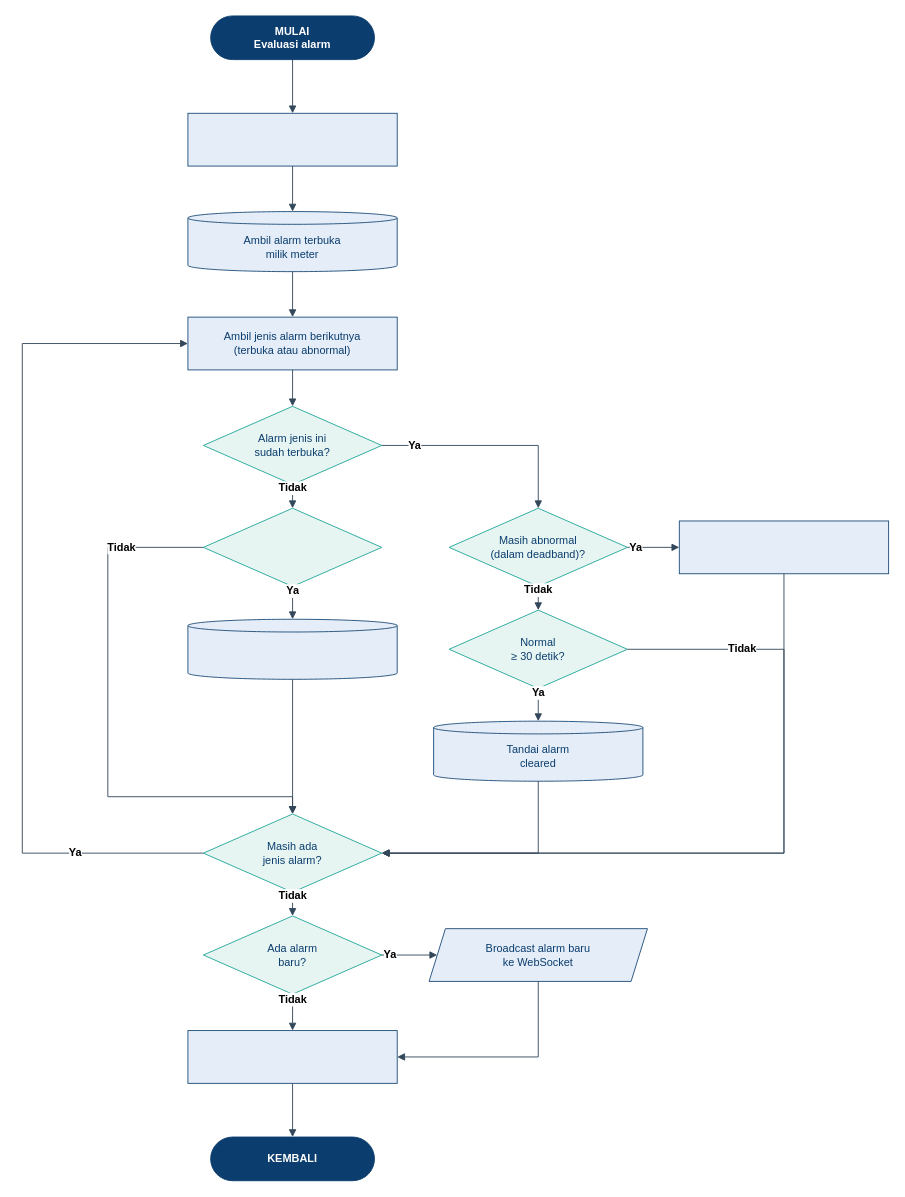
The diagram is 905 pixels wide and 1197 high, and some of its shapes have lost their labels. The shapes that lost their labels are listed below. From the top down, each one's centre as x and y in pixels, then its label:
At point (292, 139): "Periksa PF, tegangan, frekuensi, THD-I, unbalance, dan beban".
At point (292, 546): "Abnormal ≥ 30 detik?".
At point (783, 547): "Perbarui severity dan pesan alarm".
At point (292, 648): "Buat alarm baru (severity & pesan)".
At point (292, 1056): "Susun notifikasi: kritis → laporan, normal / turun → pulih".
